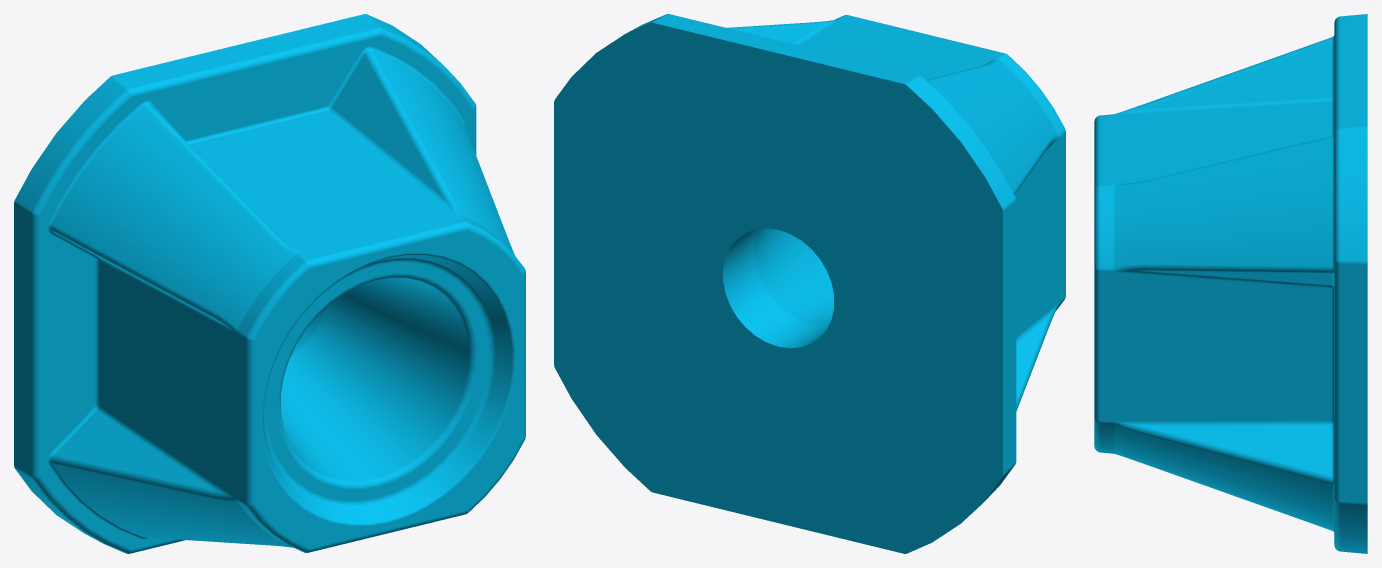
The model's file is blue_goal.gltf.
3 views of the same model, side by side, from view 1: azimuth 30°, elevation 25°; view 2: azimuth 150°, elevation 25°; view 3: azimuth 270°, elevation 25° (orthographic). The views are drawn at different scales.
Visible parts, largest first — view 1: Goal; view 2: Goal; view 3: Goal.
Boxes of the visible parts, bbox=[...] form: Goal: bbox=[14, 14, 525, 553]; Goal: bbox=[554, 14, 1065, 553]; Goal: bbox=[1094, 14, 1367, 553].
Bounding box in the file's own units: 0.1425 × 0.1425 × 0.0825.
